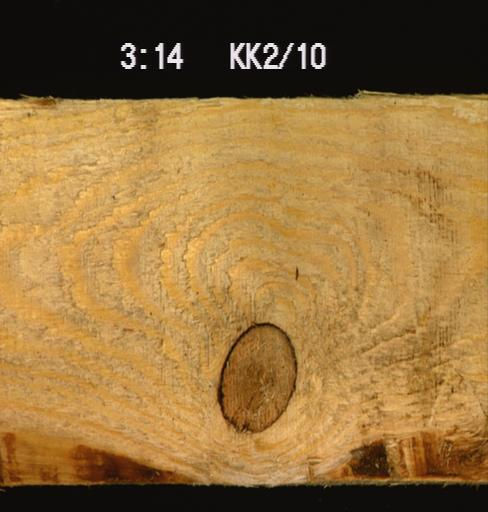dry_knot: (213, 320, 299, 435)
wave: (0, 429, 202, 487), (325, 423, 485, 485)
